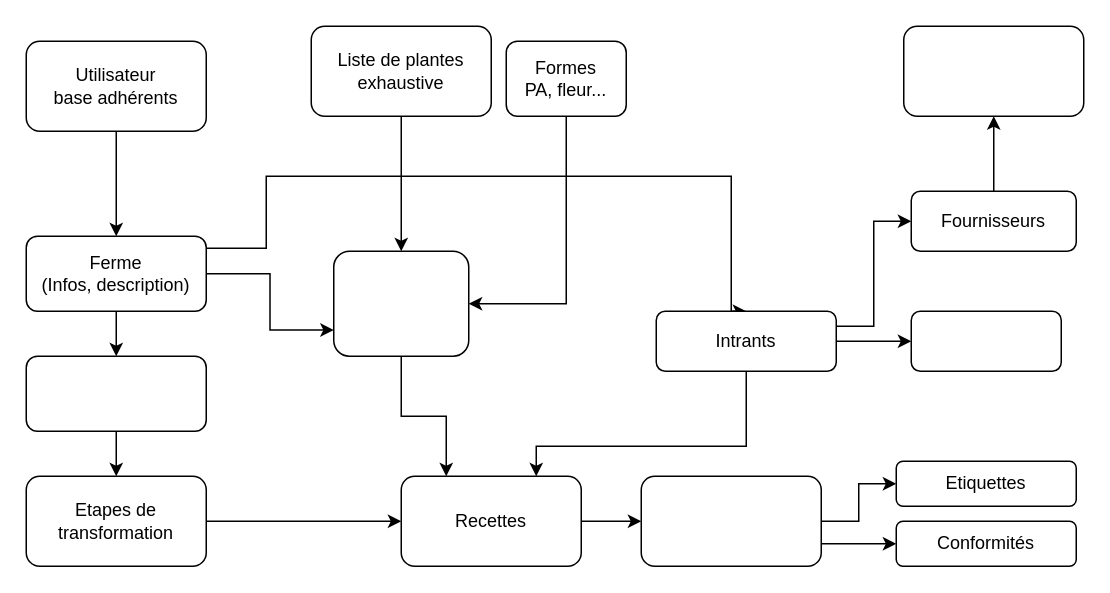
The diagram is 1110 pixels wide and 593 high, and some of its shapes have lost their labels. Here are the shapes that lost their labels. From the top down, the centre of each, then its label:
point (993, 70): Liste de fournisseurs recommandés ?
point (400, 303): Plantes cultivées et cueillies
point (985, 340): justificatifs
point (115, 393): Outils : séchoir, labo, alambic..
point (730, 520): Produits
